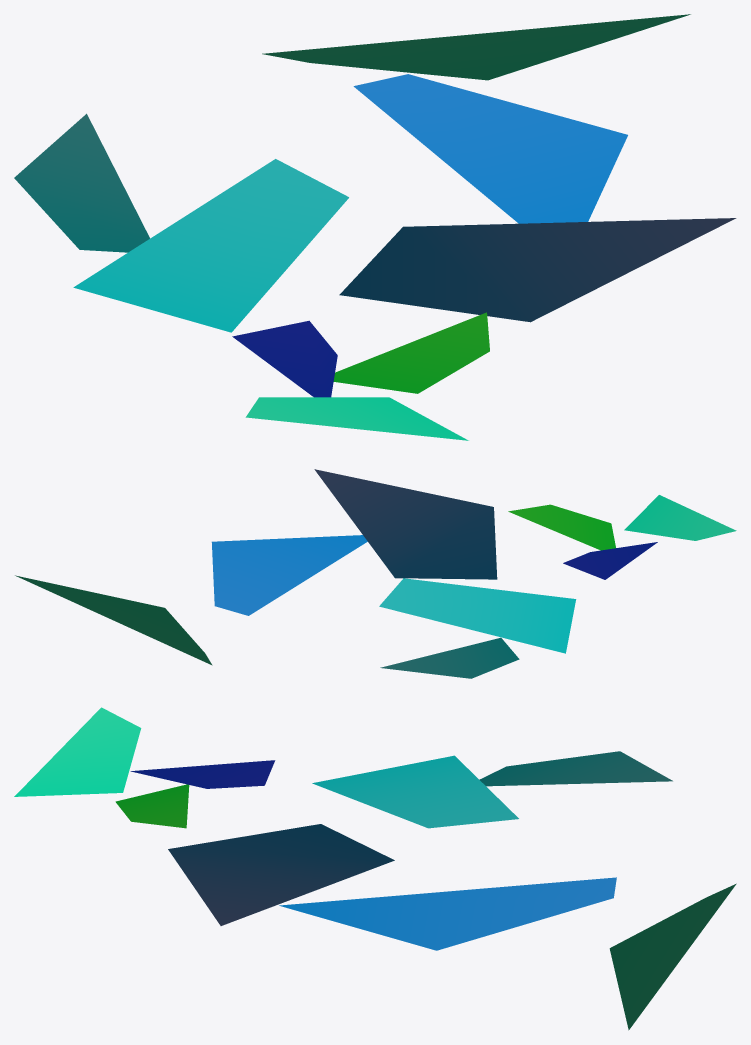
File: Creeping_Saltbush_thckfiqr_Mid_thckfiqr_VarF_LOD2.fbx
The picture shows the model from 3 angles, top to bottom: view 1: azimuth 30°, elevation 25°; view 2: azimuth 150°, elevation 25°; view 3: azimuth 270°, elevation 25°; orthographic projection. The views are drawn at different scales.
Visible parts, largest first — view 1: _c69c_VarF_LOD3; view 2: _c69c_VarF_LOD3; view 3: _c69c_VarF_LOD3.
Boxes of the visible parts, x1,y1,x2,y2 form: _c69c_VarF_LOD3: (14,14,736,440); _c69c_VarF_LOD3: (15,469,736,678); _c69c_VarF_LOD3: (14,707,736,1030).
Bounding box in the file's own units: 29.51 × 1.71 × 29.3.
